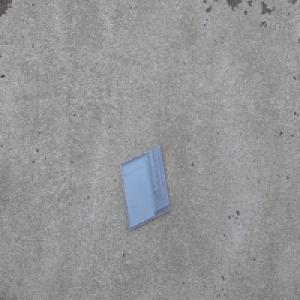PlasticPart: (119, 144, 170, 232)
